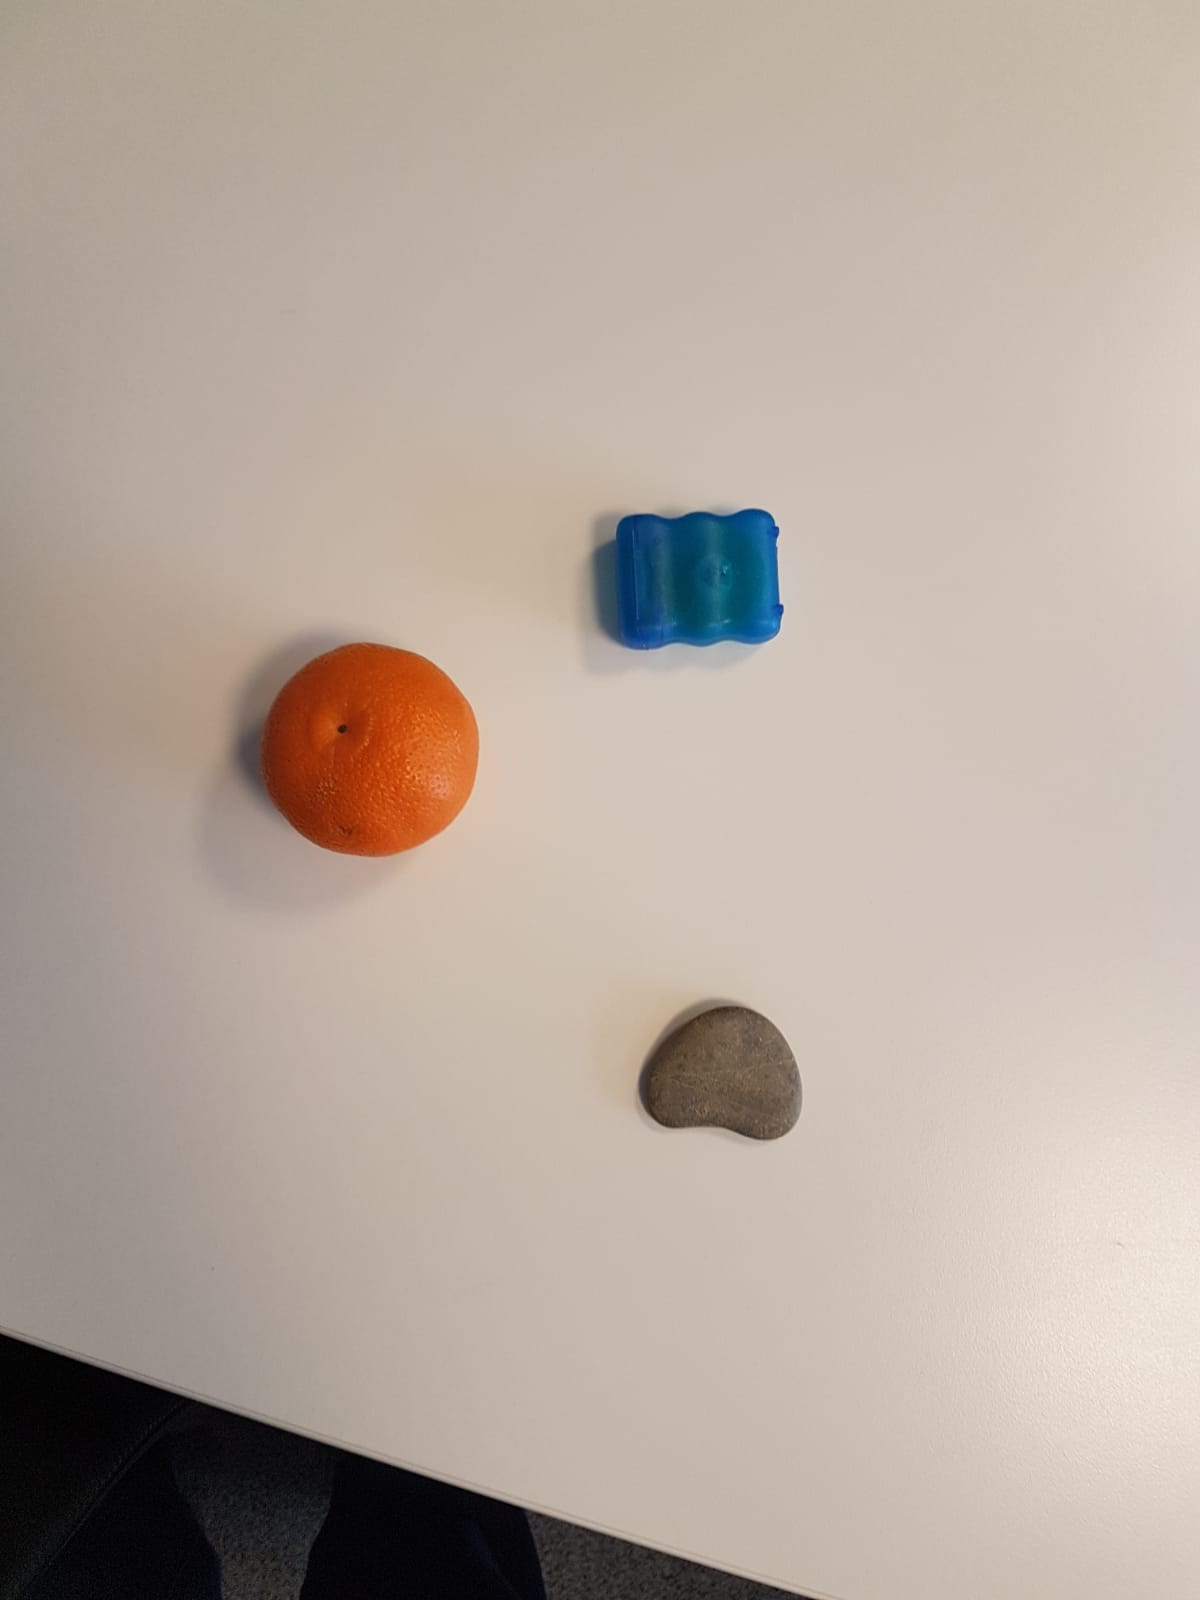Box: (608, 511, 787, 645)
Orange: (266, 645, 483, 858)
Stone: (640, 1007, 804, 1145)
